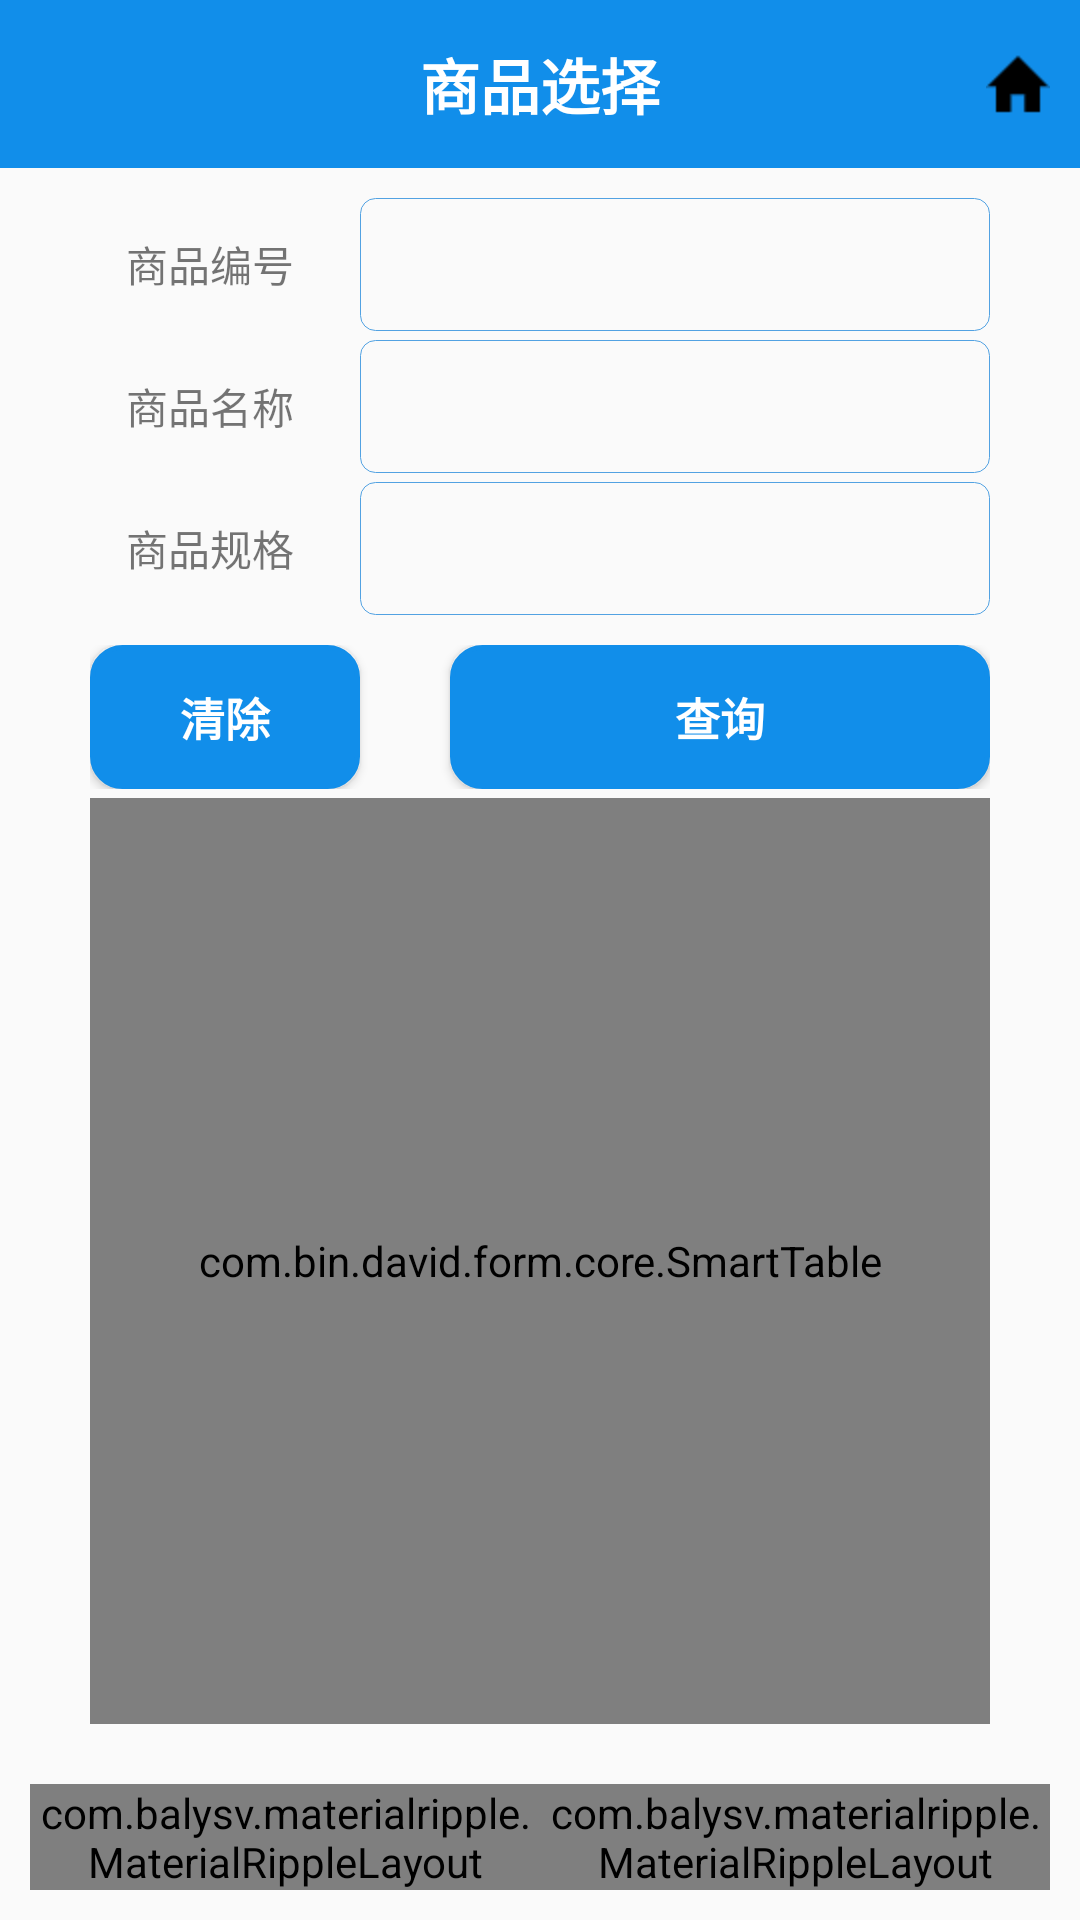

Icons on this 1080px×1920px Android screen, each with its box as (x1, y1, x2, y2):
home: (986, 55, 1050, 113)
